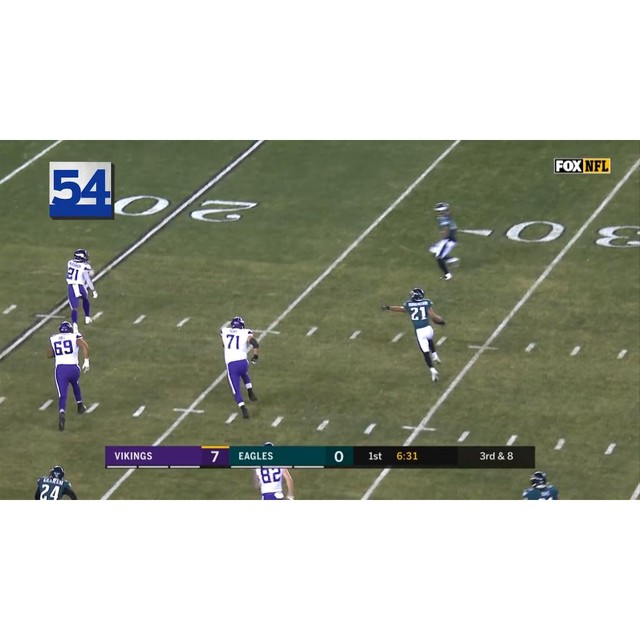american-football-player: (382, 287, 445, 383), (45, 320, 91, 432), (218, 317, 261, 420), (426, 202, 464, 281), (64, 249, 99, 327), (34, 465, 79, 500), (251, 468, 295, 500), (520, 471, 560, 499)
